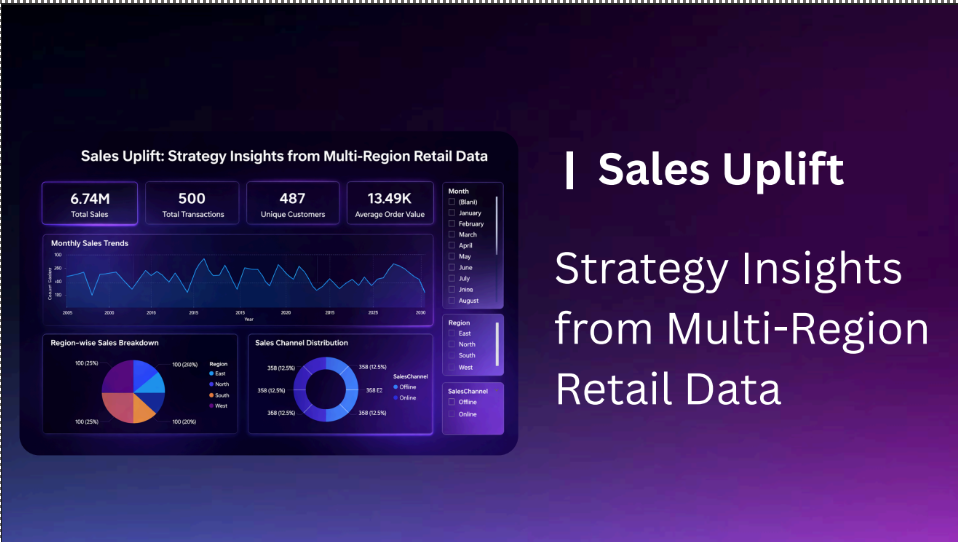

This screenshot's page, from the dashboard's own definition file:
{"tool":"powerbi","page":{"name":"Home page","canvas":[1280,720],"ordinal":0},"visuals":[{"type":"image","box":[0,0,1280,720],"z":0}]}

Visuals, with their boxes in screenshot pixels (x1, y1, x2, y2), scaled from the page's 1280x720 canvas onto the 958x542 screenshot:
image: [x1=0, y1=0, x2=957, y2=541]
